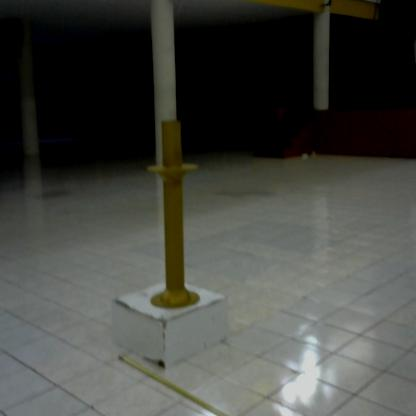pole: (136, 103, 214, 313)
